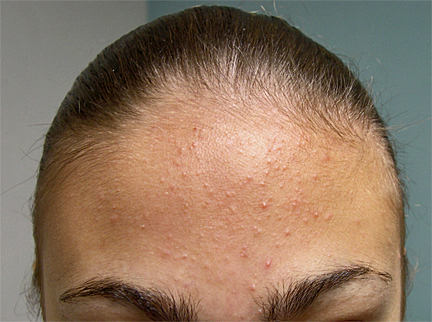jerawat: (78, 129, 375, 265)
